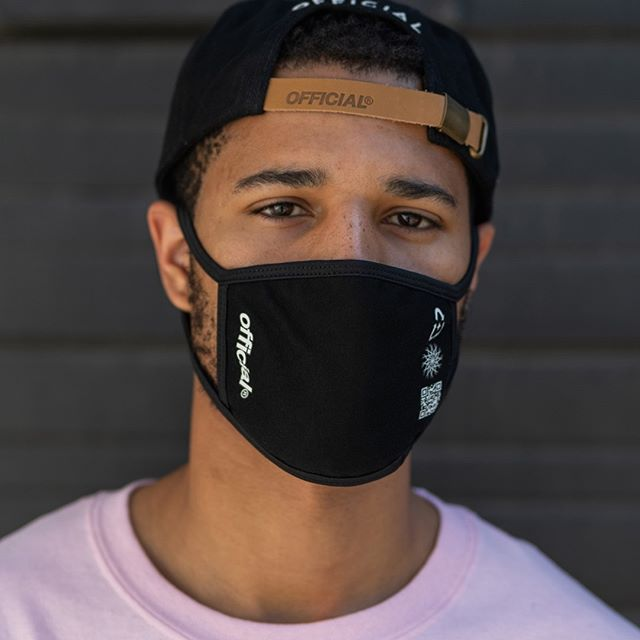homemade: (159, 204, 494, 483)
